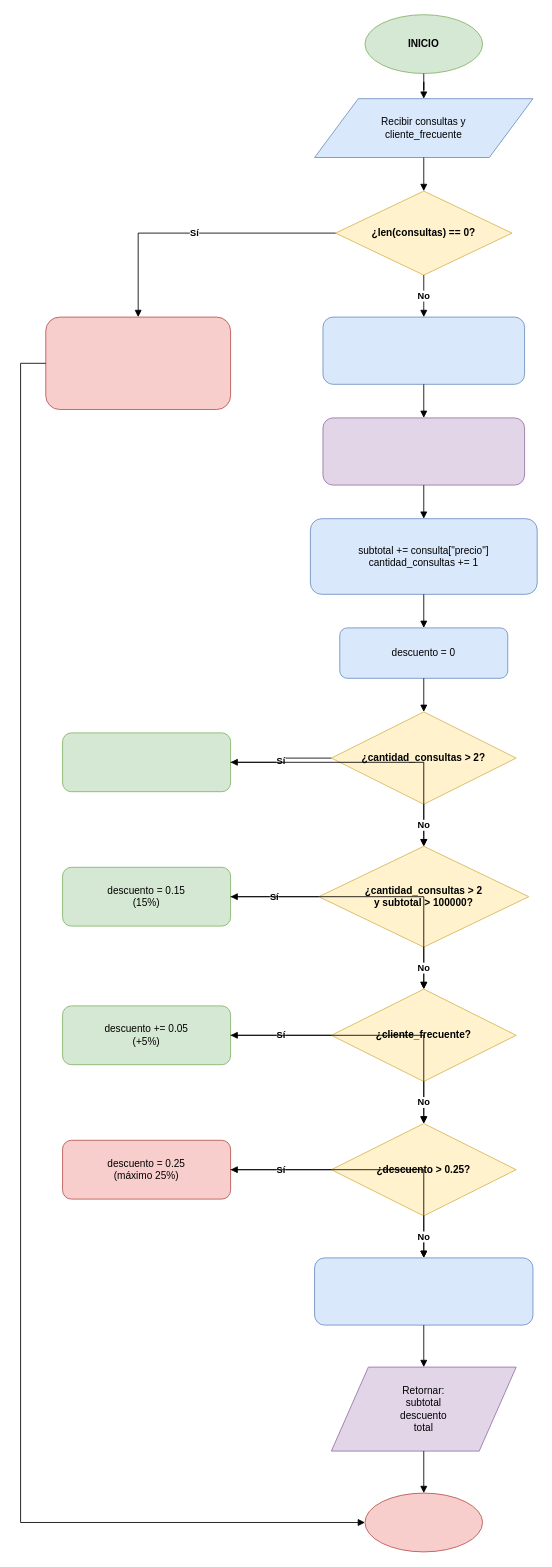
Image size: 552x1567. Some labels were removed from this diagram. Here are the shapes that lost their labels. From the top down, the centre of each, then its label:
At [138,363]: "Retornar: subtotal = 0 descuento = 0 total = 0".
At [423,350]: "subtotal = 0 cantidad_consultas = 0".
At [423,451]: "Recorrer cada consulta for consulta in consultas".
At [146,762]: "descuento = 0.10 (10%)".
At [423,1291]: "total = subtotal - (subtotal * descuento)".
At [423,1522]: "FIN".
